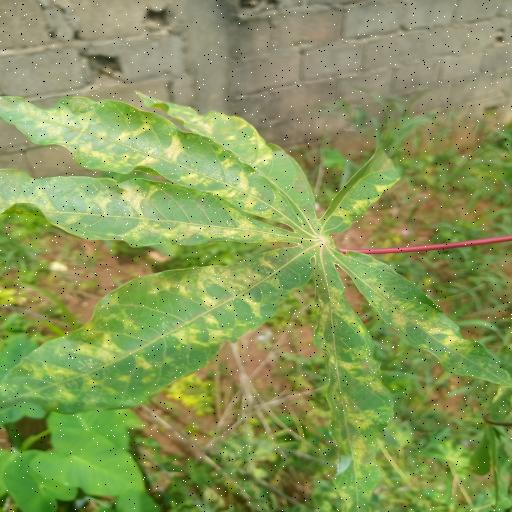Cassava_Mosaic: (0, 87, 512, 509)
